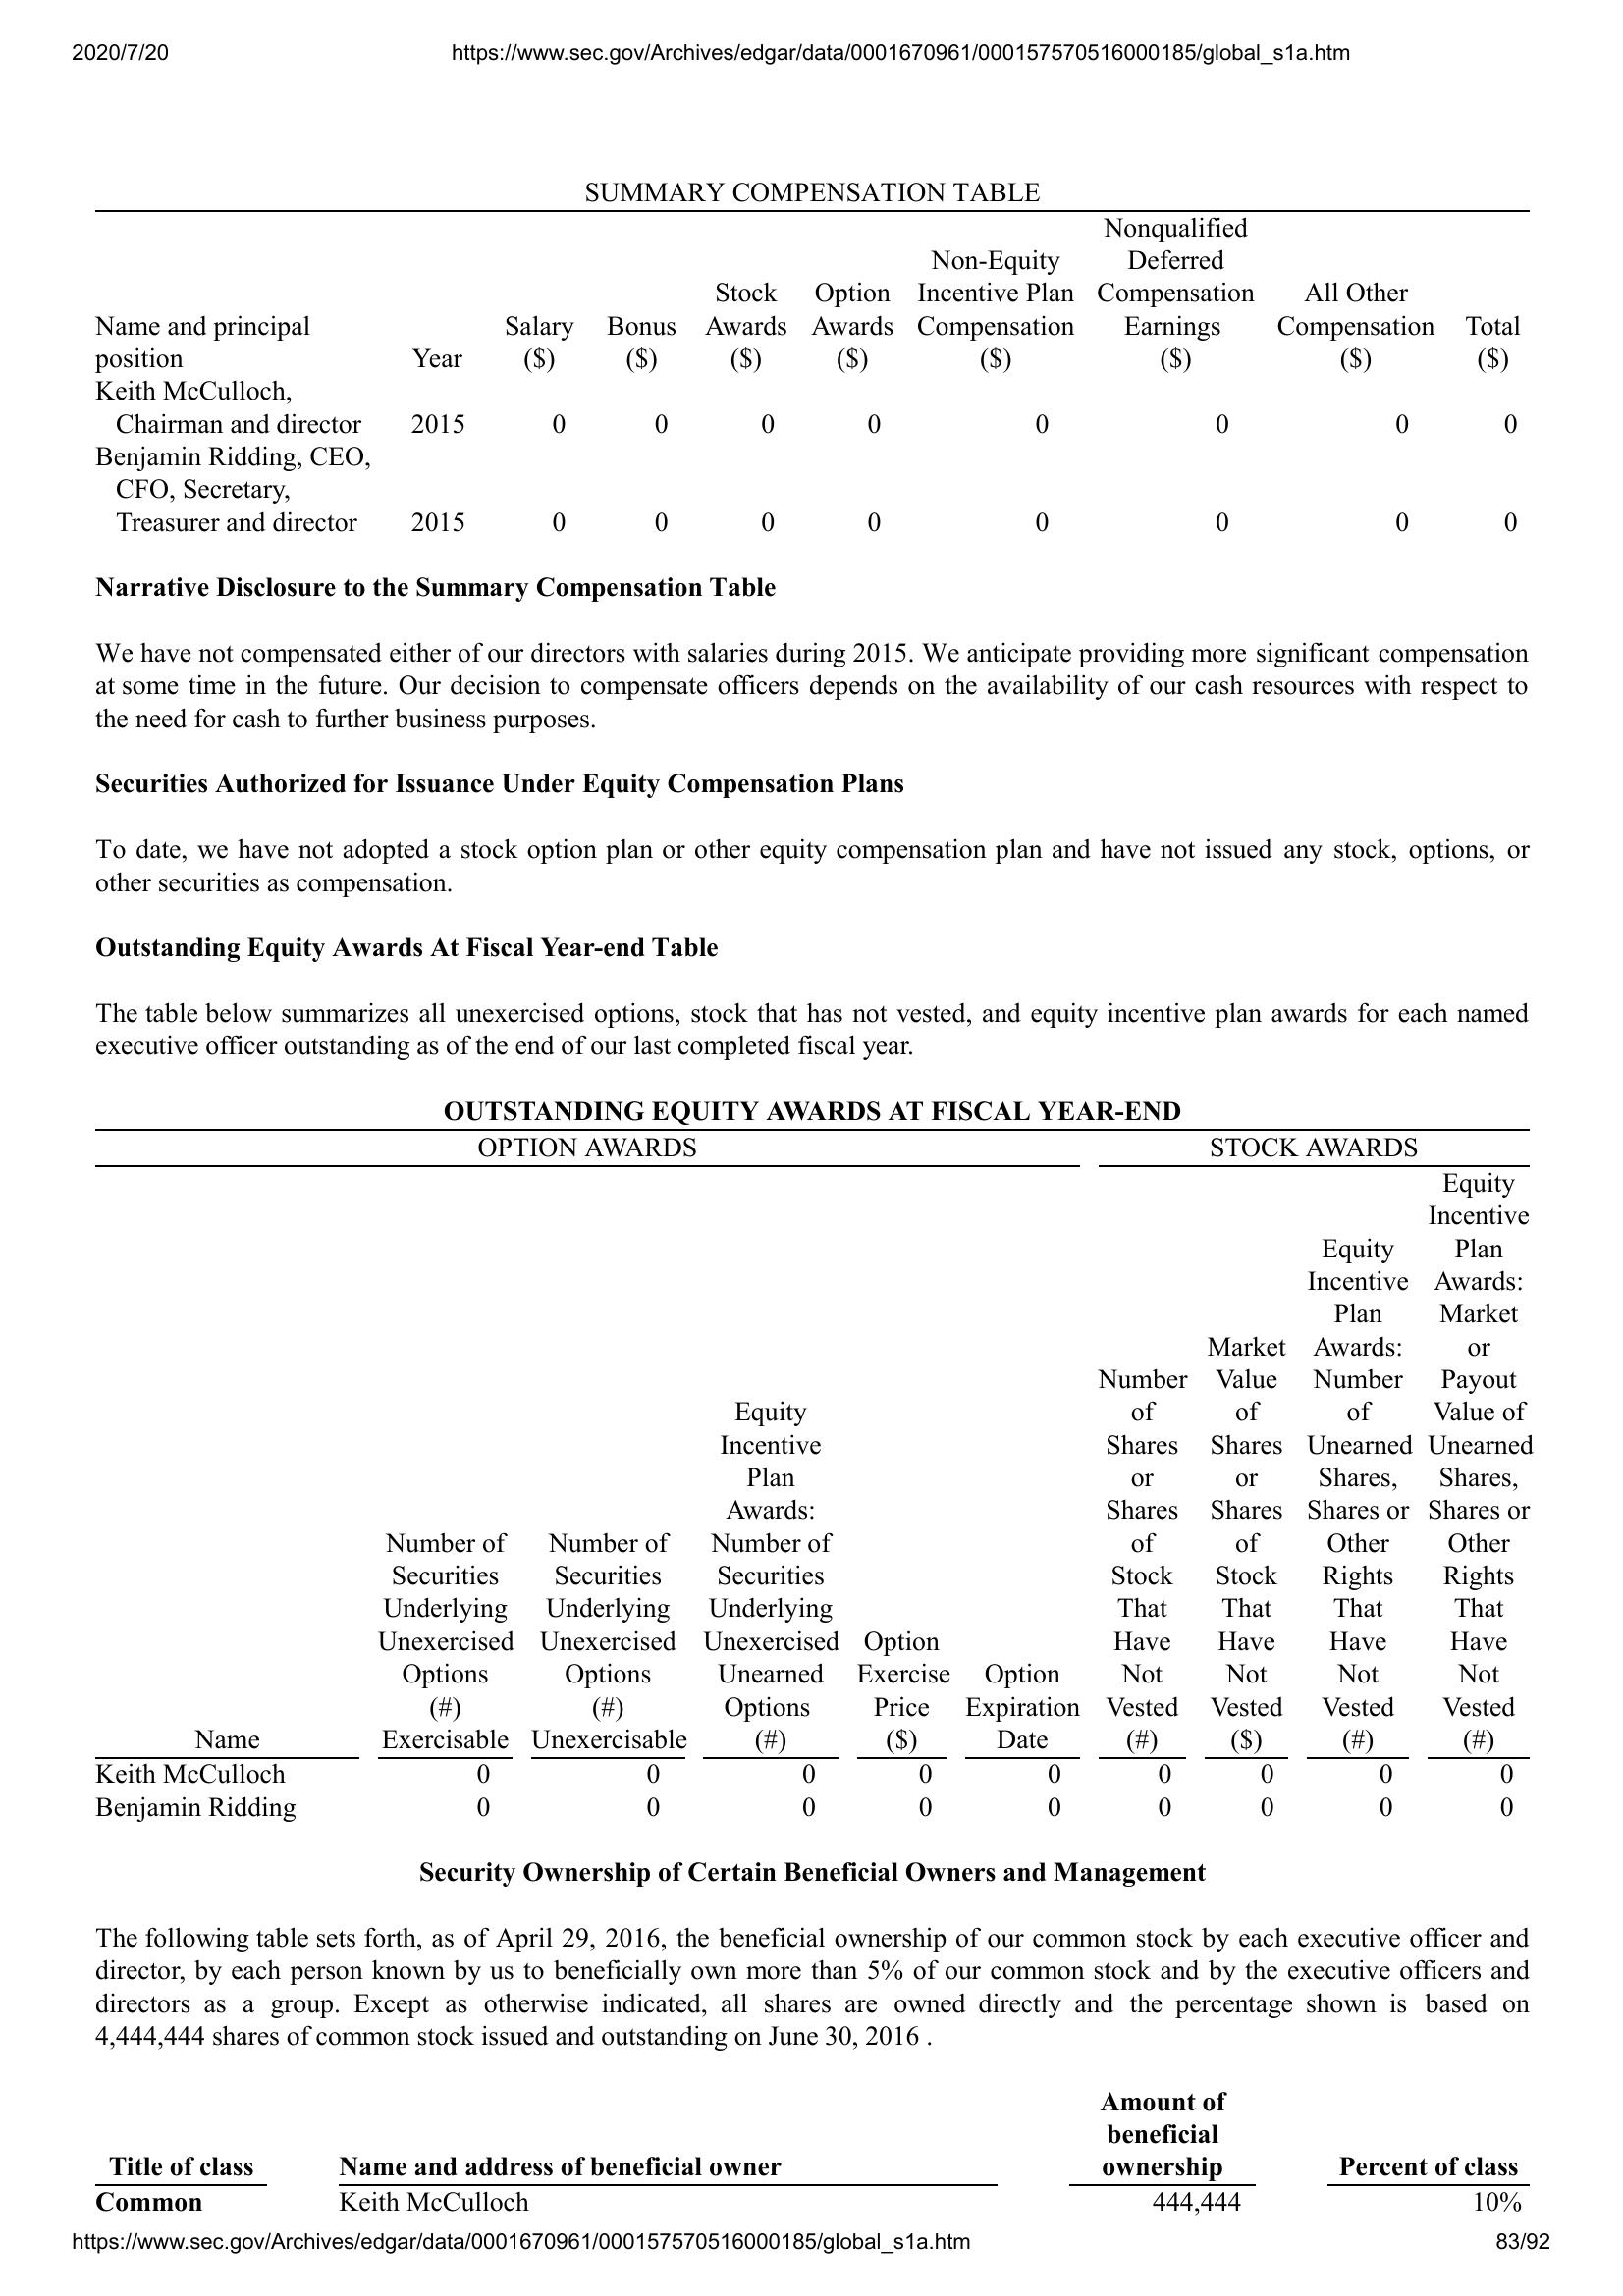table: (83, 1088, 1535, 1838), (88, 176, 1535, 542)
